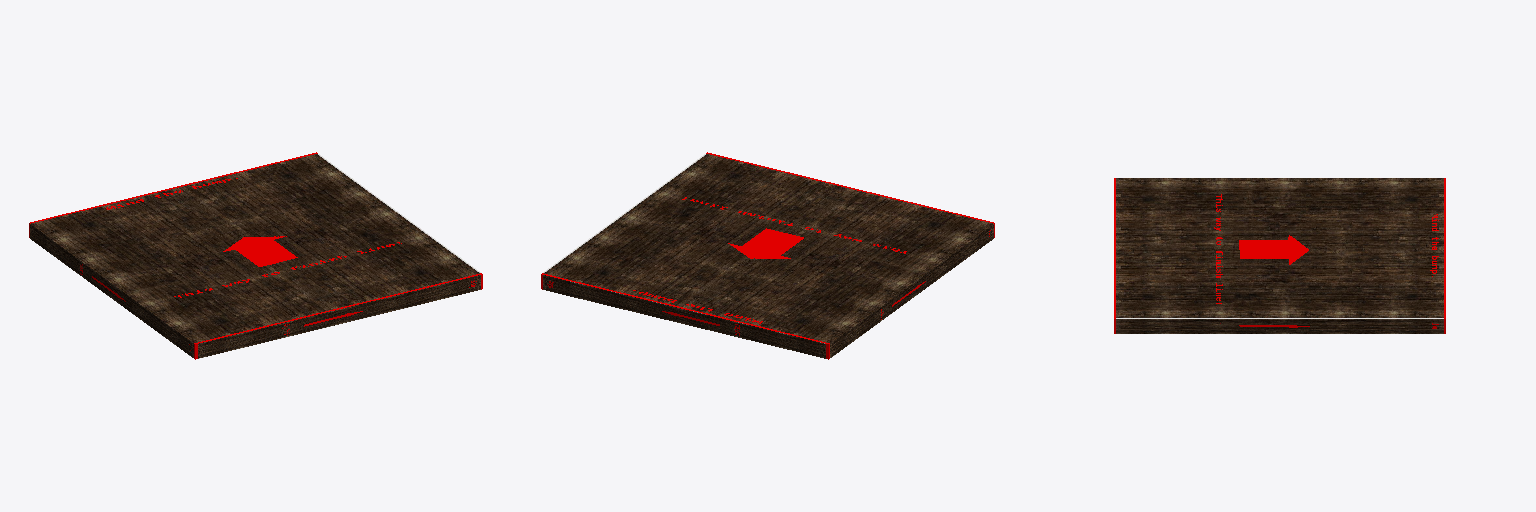
3 views of the same model, side by side, from view 1: azimuth 30°, elevation 25°; view 2: azimuth 150°, elevation 25°; view 3: azimuth 270°, elevation 25° (orthographic).
Visible parts, largest first — view 1: Cube; view 2: Cube; view 3: Cube.
Part boxes in pixels (x1,y1,x2,y2): Cube: (29, 152, 482, 359); Cube: (541, 152, 994, 359); Cube: (1114, 178, 1445, 333).
Size of the model in its own units: 20 by 1 by 20.
1 materials, 1 textured.